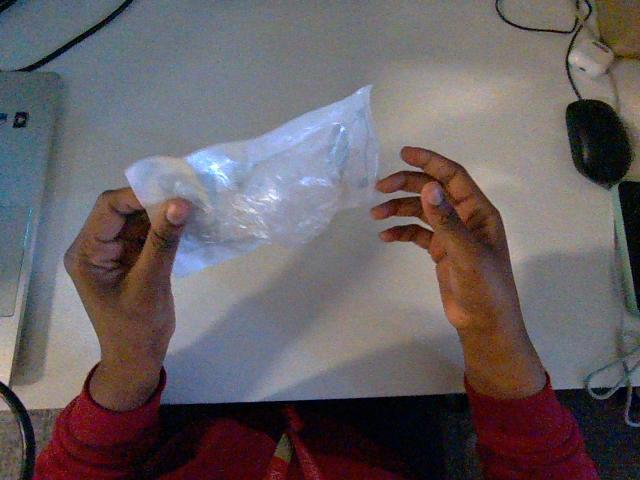gallipot: (125, 86, 377, 275)
